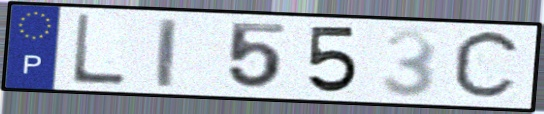3: (379, 26, 440, 99)
5: (226, 20, 291, 92), (306, 25, 359, 95)
C: (448, 27, 525, 105)
I: (155, 16, 180, 90)
L: (68, 12, 129, 88)
